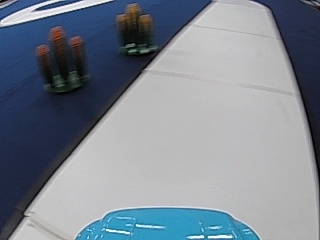tractor: (35, 25, 90, 94), (115, 1, 156, 55)
